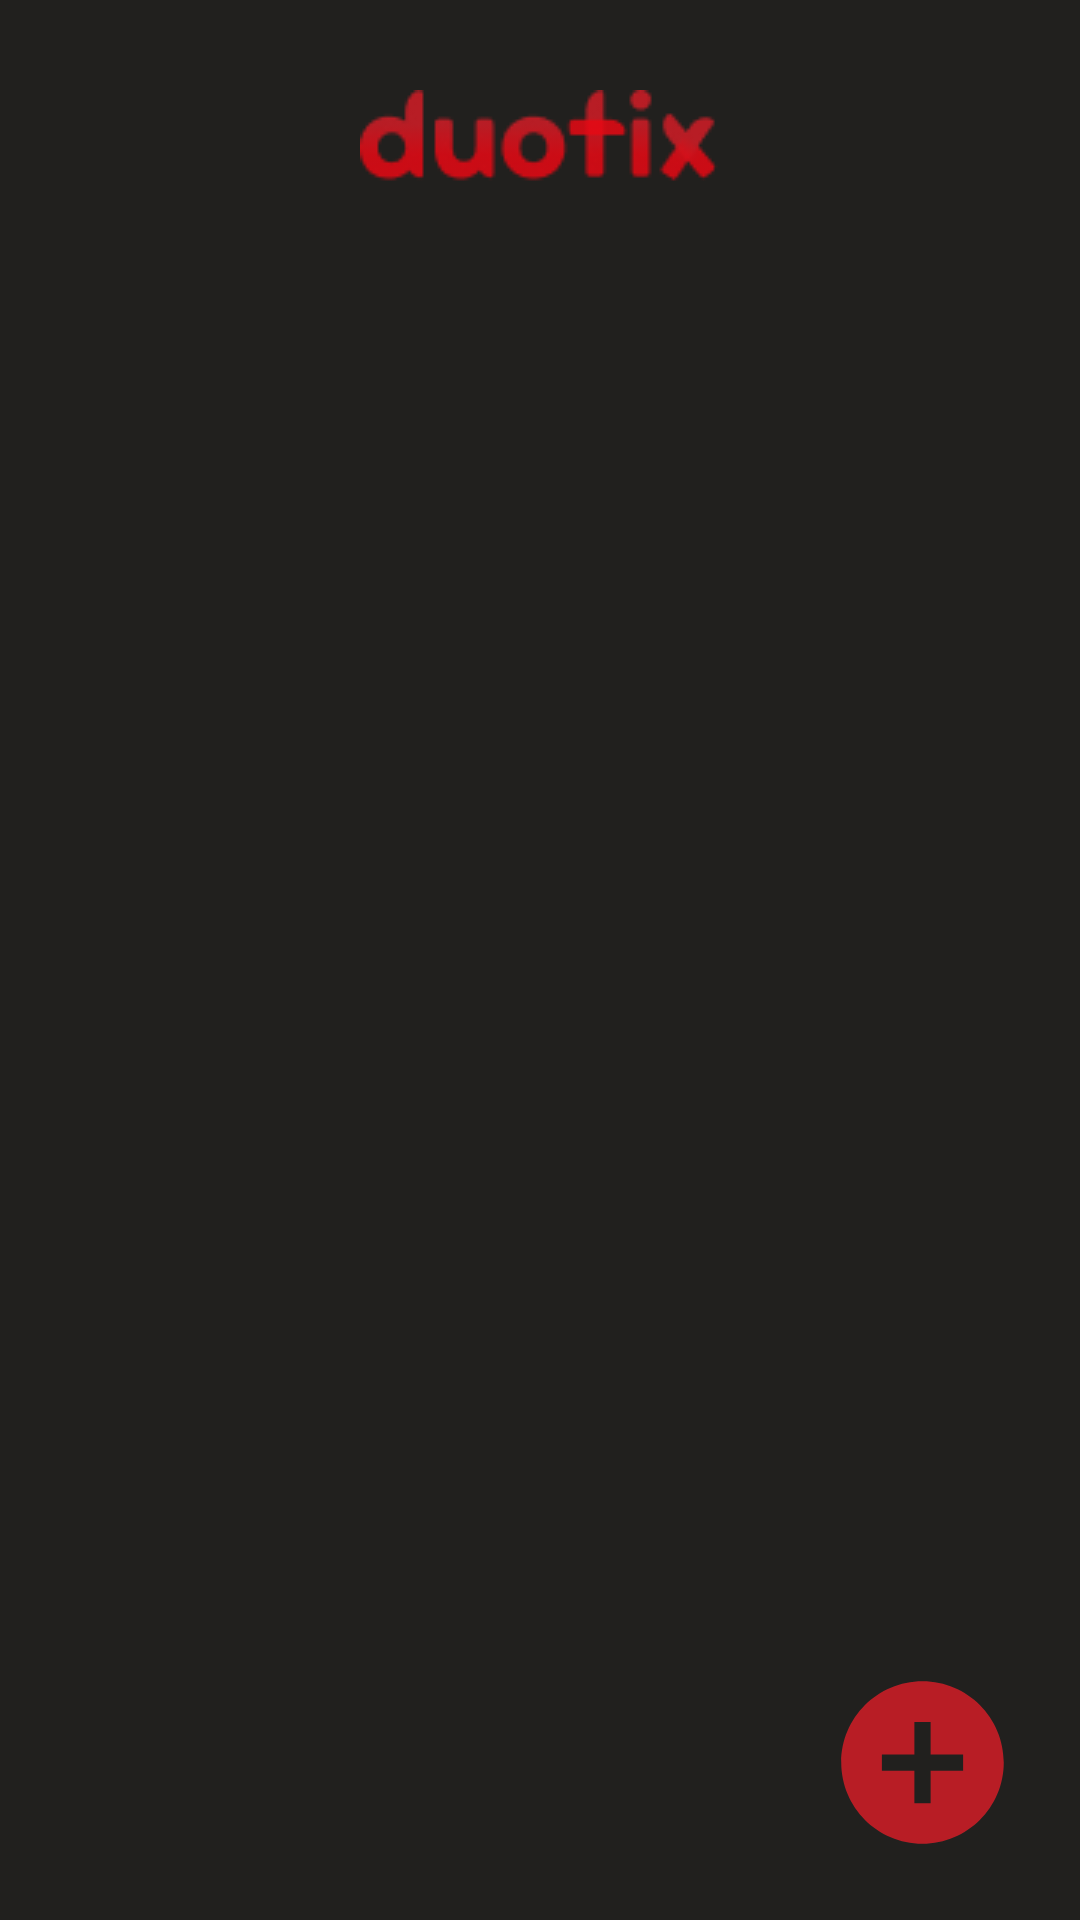

Icon click points for this 1080 x 1920 phone screenshot, format [x,y]:
add circle: [922,1762]
